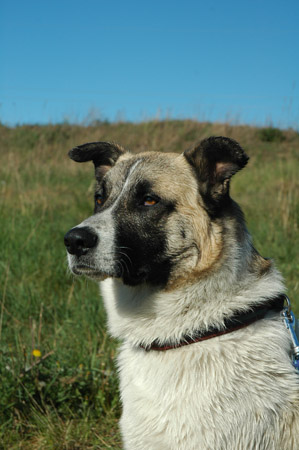dog: (66, 137, 299, 450)
